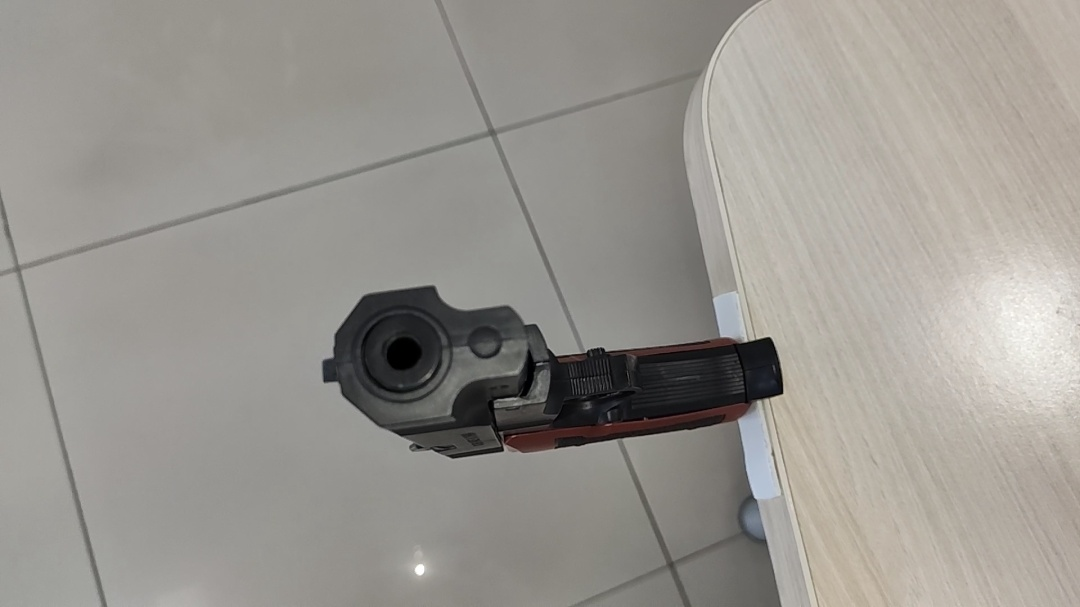gun: (459, 106, 842, 404)
